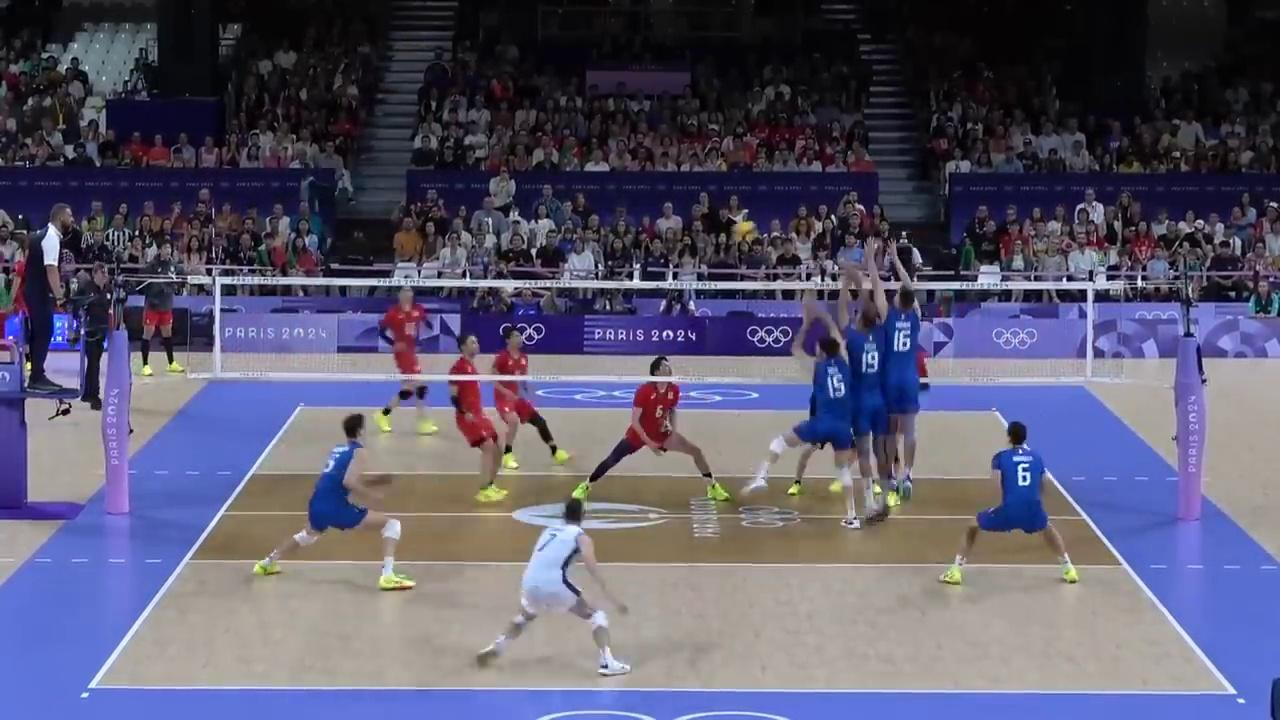ball: (731, 221, 757, 243)
